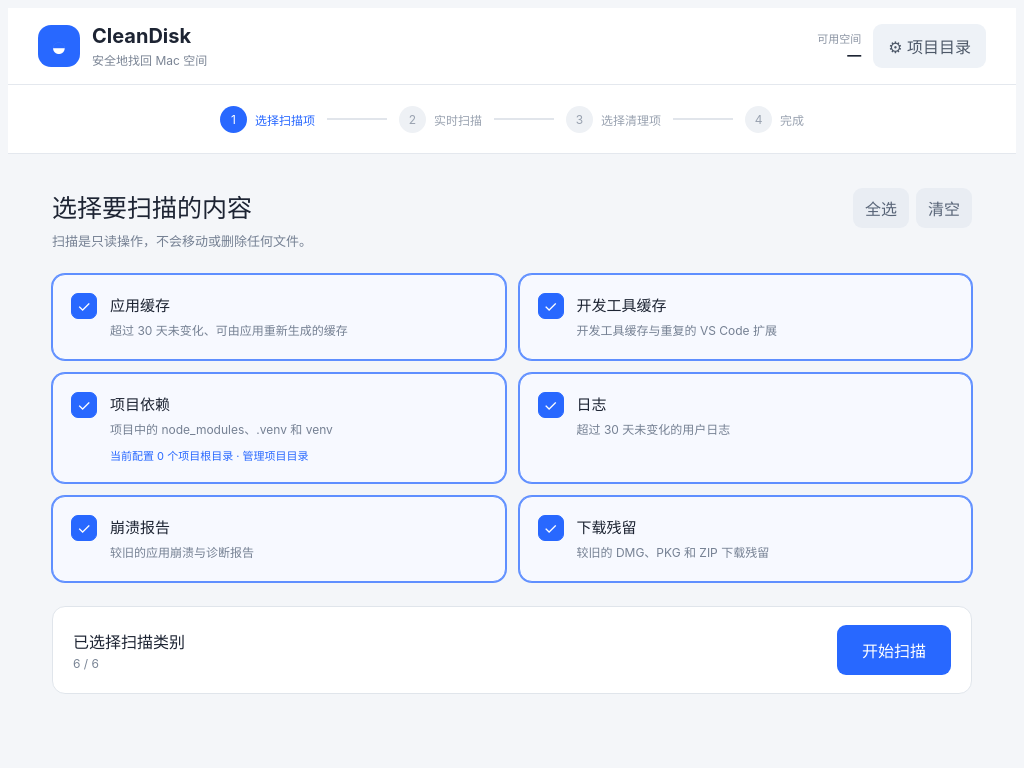
Test: CleanDisk 四步向导 › 初始六类默认全选，清空后不能扫描
Expected: the heading "选择要扫描的内容" is shown, [52, 193, 252, 223]
Expected: the checkbox labelled "✓ 应用缓存 超过 30 天未变化、可由应用重新生成的缓存" is checked, [52, 274, 506, 360]
Click the button "清空".
click(944, 208)  # box [916, 188, 972, 228]
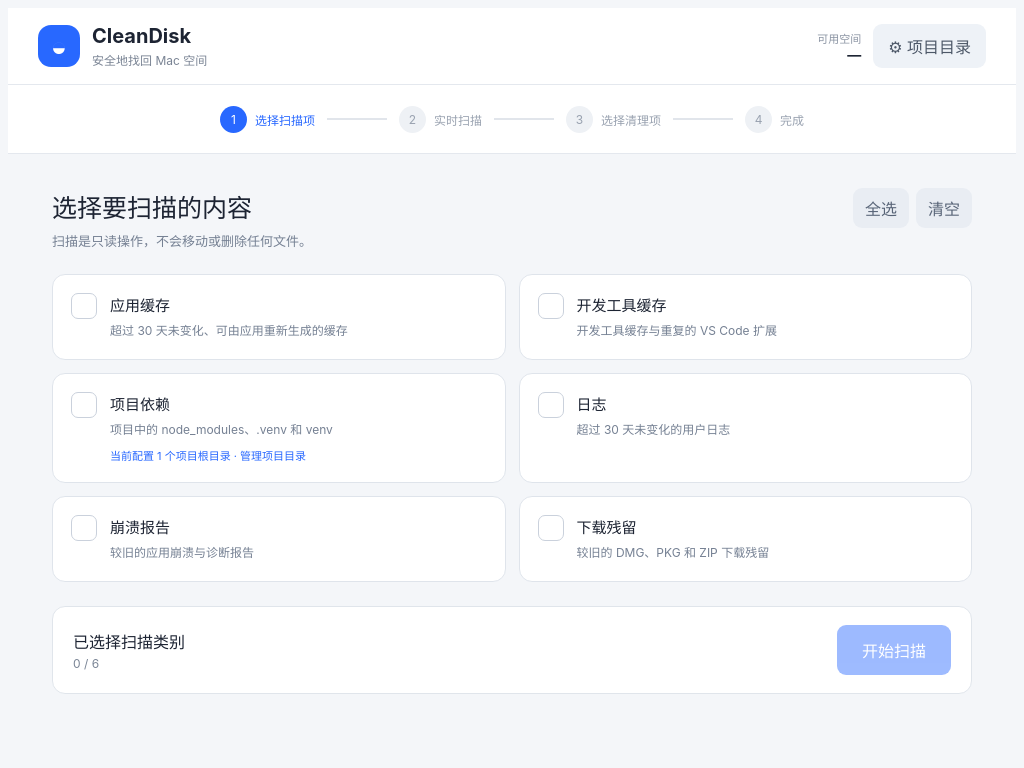
Expected: the button "开始扫描" is disabled, [837, 625, 951, 675]
